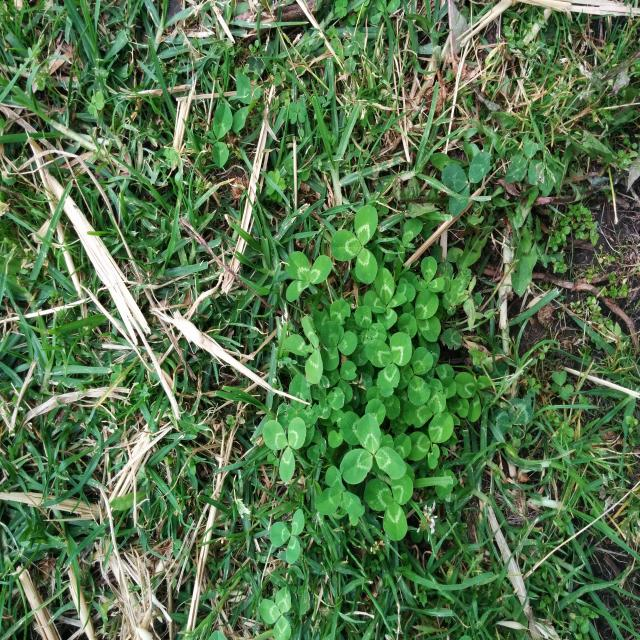Four Leaf Clover: (363, 268, 407, 330)
